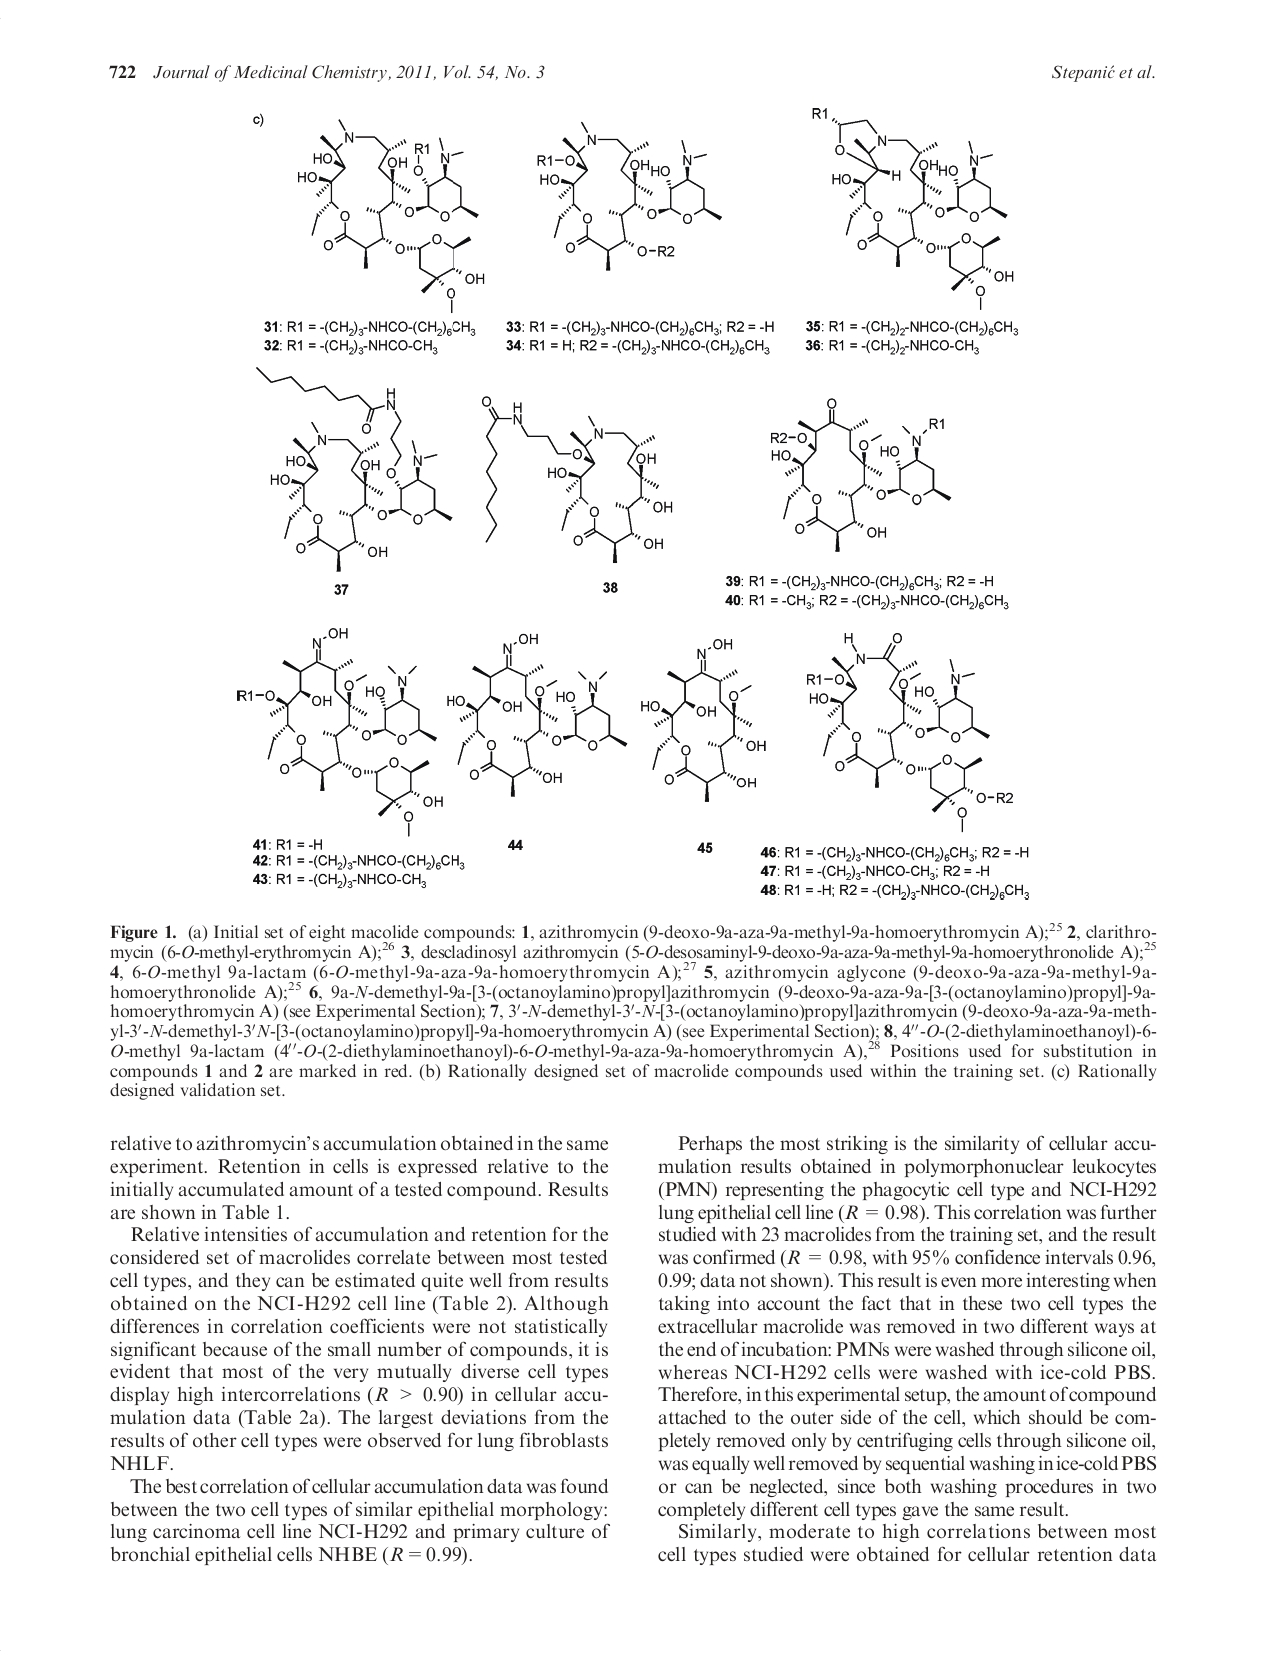exist_molecular: (234, 622, 447, 839), (801, 622, 1017, 835), (806, 100, 1016, 313), (250, 363, 456, 577), (293, 114, 488, 315), (475, 390, 676, 567), (445, 629, 629, 801), (765, 394, 956, 555), (535, 118, 726, 273), (638, 636, 771, 806)
